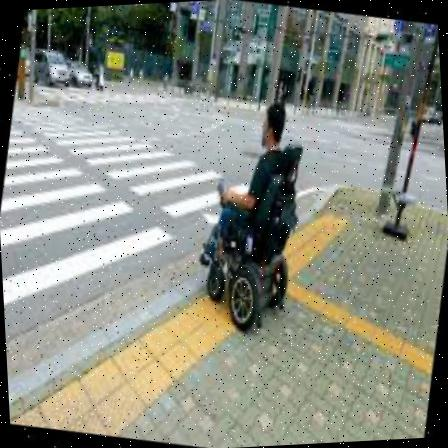wheel: (181, 90, 322, 336)
